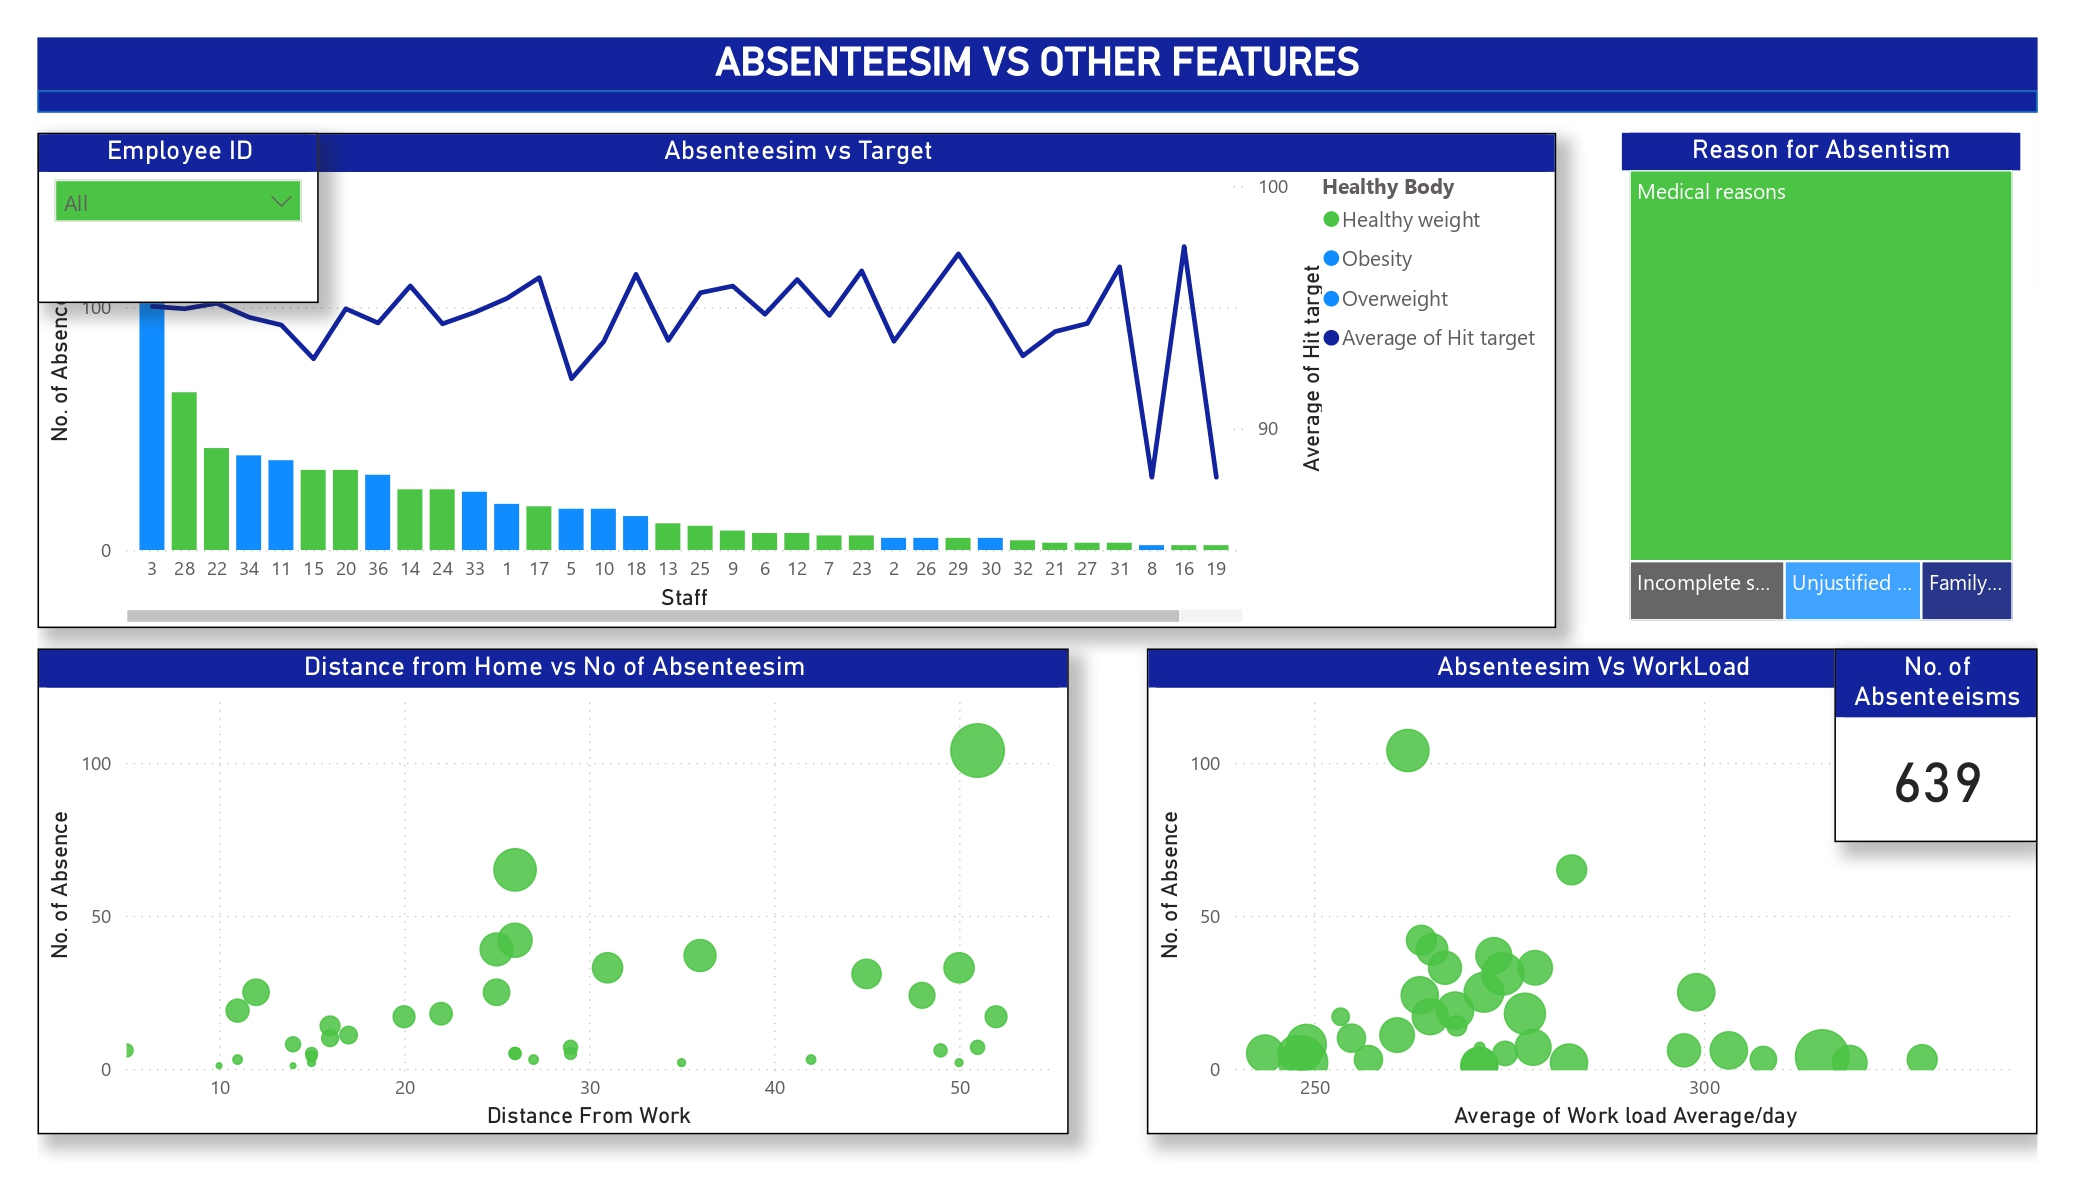

The page's visual inventory and layout, read from the dashboard file:
{"tool":"powerbi","page":{"name":"Others","canvas":[1280,720],"ordinal":2},"visuals":[{"type":"lineStackedColumnComboChart","title":"Absenteesim vs Target","fields":{"Category":["Absenteeisms.ID"],"Y":["CountNonNull(Absenteeisms.ID)"],"Y2":["Avg(Absenteeisms.Hit target)"],"Series":["Employee_info.Healthy Body"]},"box":[0,61.5,971.7,316.1],"z":0},{"type":"scatterChart","title":"Distance from Home vs No of Absenteesim","fields":{"X":["Avg(Employee_info.Distance from home to work)"],"Y":["CountNonNull(Absenteeisms.ID)"],"Category":["Employee_info.ID"],"Size":["CountNonNull(Absenteeisms.ID)"]},"box":[0,390.7,660,311.7],"z":1000},{"type":"slicer","title":"Employee ID","fields":{"Values":["Absenteeisms.ID"]},"box":[0,61.5,180,108.3],"z":2000},{"type":"scatterChart","title":"Absenteesim Vs WorkLoad","fields":{"Category":["Absenteeisms.ID"],"Y":["CountNonNull(Absenteeisms.ID)"],"X":["Avg(Absenteeisms.Work load Average/day)"],"Size":["Avg(Absenteeisms.Service time)"]},"box":[709.8,390.7,570.7,311.7],"z":3000},{"type":"shape","title":"ABSENTEESIM VS OTHER FEATURES","box":[0,0,1280.5,48.3],"z":4000},{"type":"treemap","title":"Reason for Absentism","fields":{"Group":["Absenteeisms.Absenteeism Reason"],"Values":["CountNonNull(Absenteeisms.Absenteeism Reason)"]},"box":[1014.1,61.5,254.6,316.1],"z":5000},{"type":"card","title":"No. of Absenteeisms","fields":{"Values":["CountNonNull(Absenteeisms.ID)"]},"box":[1150.2,390.7,130.2,124.4],"z":6000}]}

Visuals, with their boxes in screenshot pixels (x1, y1, x2, y2):
"Absenteesim vs Target" lineStackedColumnComboChart: l=38, t=134, r=1556, b=628
"Distance from Home vs No of Absenteesim" scatterChart: l=38, t=648, r=1069, b=1135
"Employee ID" slicer: l=38, t=134, r=319, b=303
"Absenteesim Vs WorkLoad" scatterChart: l=1147, t=648, r=2038, b=1135
"ABSENTEESIM VS OTHER FEATURES" shape: l=38, t=38, r=2038, b=113
"Reason for Absentism" treemap: l=1622, t=134, r=2020, b=628
"No. of Absenteeisms" card: l=1835, t=648, r=2038, b=842
